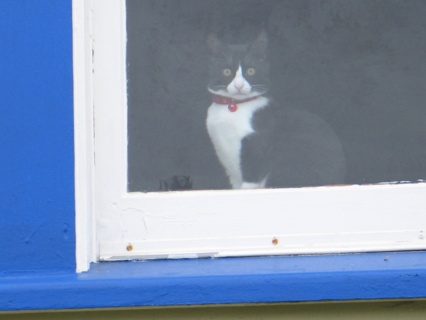Cat: (202, 30, 345, 189)
